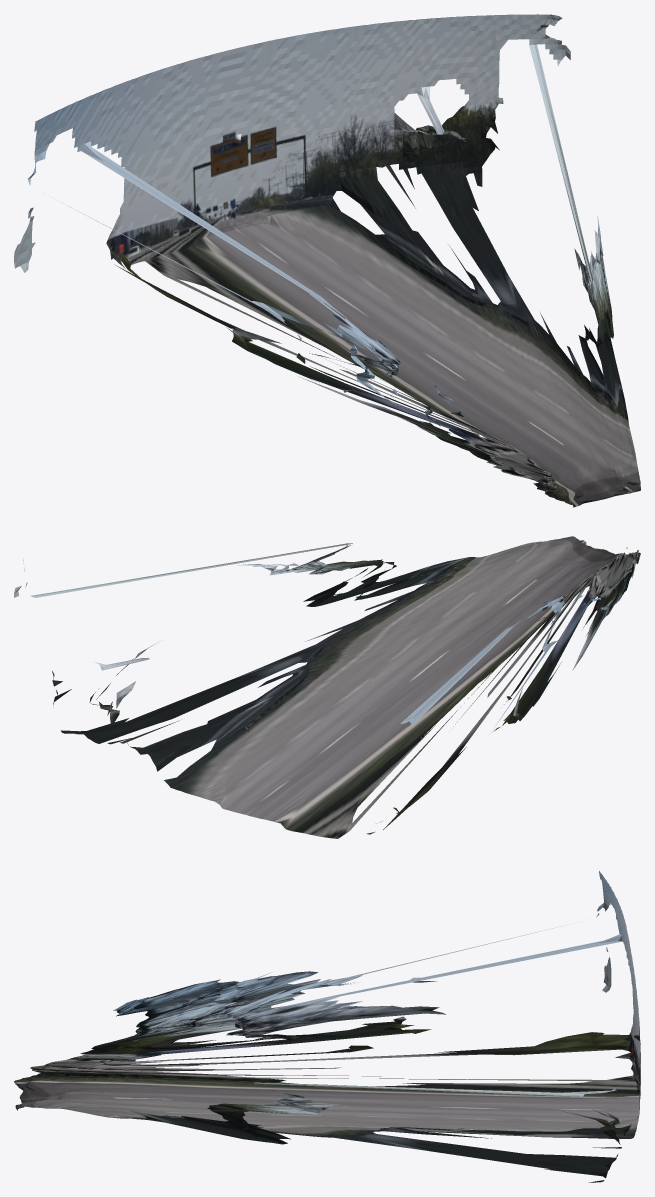
3 views of the same model, one above another, from view 1: azimuth 30°, elevation 25°; view 2: azimuth 150°, elevation 25°; view 3: azimuth 270°, elevation 25° (orthographic). The views are drawn at different scales.
Visible parts, largest first — view 1: defaultobject; view 2: defaultobject; view 3: defaultobject.
Boxes of the visible parts, x1=… form: defaultobject: x1=14, y1=14, x2=640, y2=507; defaultobject: x1=14, y1=536, x2=640, y2=838; defaultobject: x1=14, y1=871, x2=640, y2=1182.
Size of the model in its own units: 35.96 by 12.69 by 44.68.
1 material, 1 textured.
